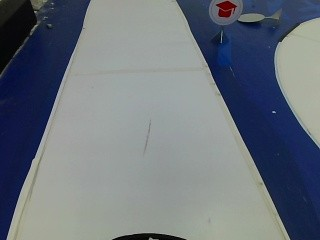school: (205, 0, 242, 26)
